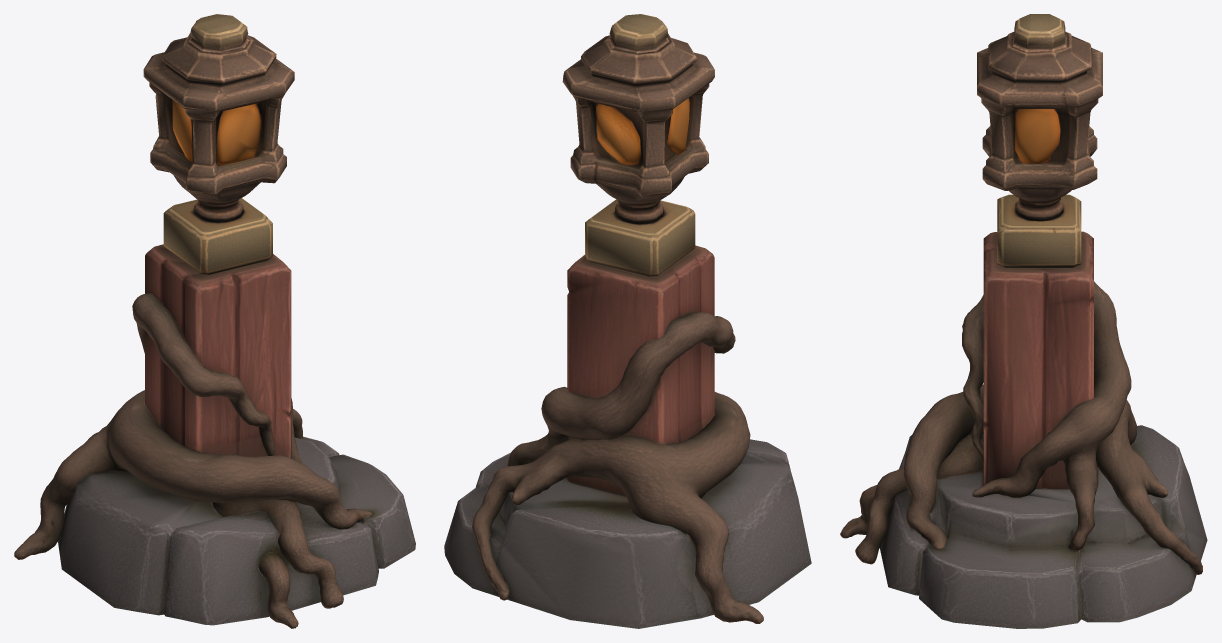
Rendered from lamp_1.glb.
The picture shows the model from 3 angles, left to right: view 1: azimuth 30°, elevation 25°; view 2: azimuth 150°, elevation 25°; view 3: azimuth 270°, elevation 25°; orthographic projection.
Visible parts, largest first — view 1: tripo_node_dab34327-34d3-4bf2-87ca-333bfc5dce24; view 2: tripo_node_dab34327-34d3-4bf2-87ca-333bfc5dce24; view 3: tripo_node_dab34327-34d3-4bf2-87ca-333bfc5dce24.
Boxes of the visible parts, <box> form: tripo_node_dab34327-34d3-4bf2-87ca-333bfc5dce24: <box>14,14,415,628</box>; tripo_node_dab34327-34d3-4bf2-87ca-333bfc5dce24: <box>444,14,811,628</box>; tripo_node_dab34327-34d3-4bf2-87ca-333bfc5dce24: <box>840,14,1207,628</box>.
Bounding box in the file's own units: 0.6543 × 0.998 × 0.6309.
1 material, 1 textured.
